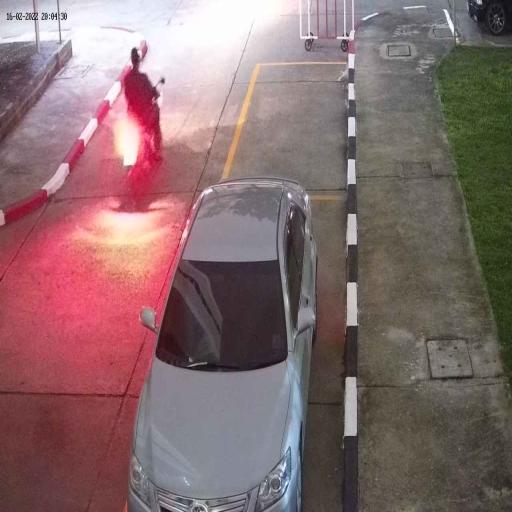car: (128, 177, 318, 511)
motorcycle: (121, 111, 164, 206)
